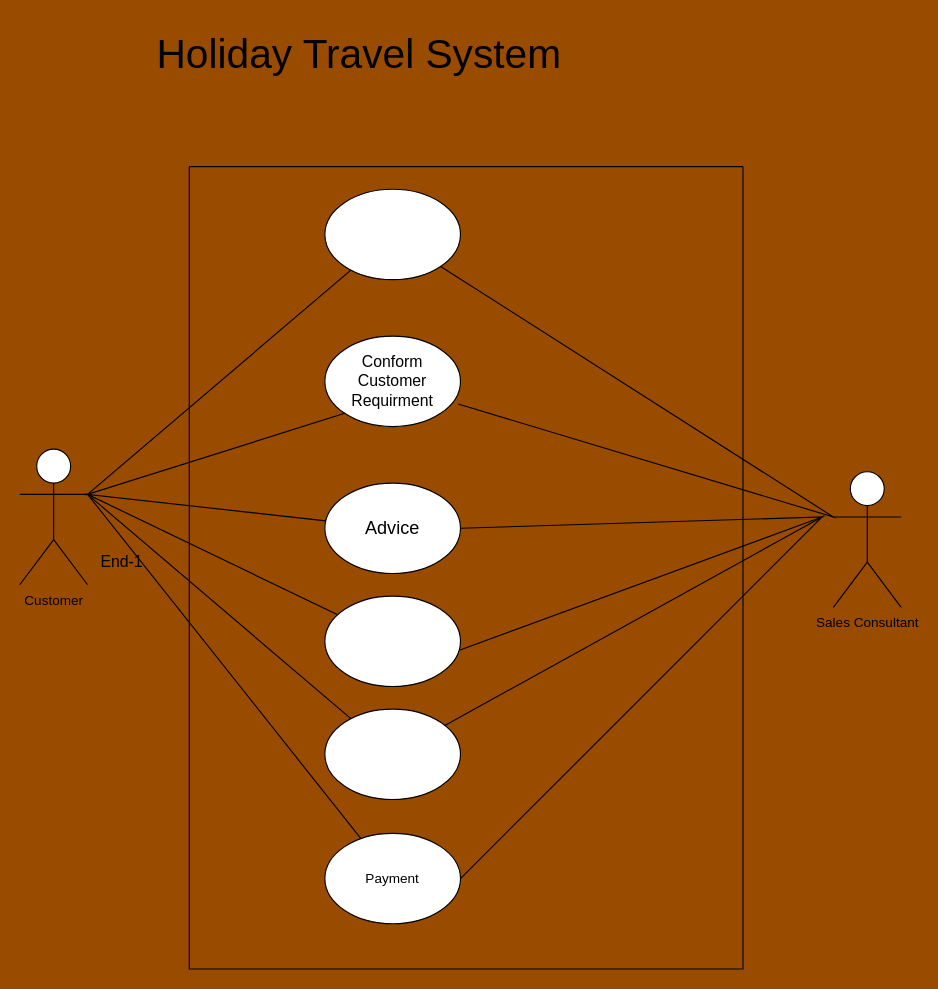
This 938x989 diagram has some shape labels left out. Each missing label, with the centre of its shape:
Accept customer holyday: pixel 392 753
Boking Holyday: pixel 392 640
Register: pixel 392 234
